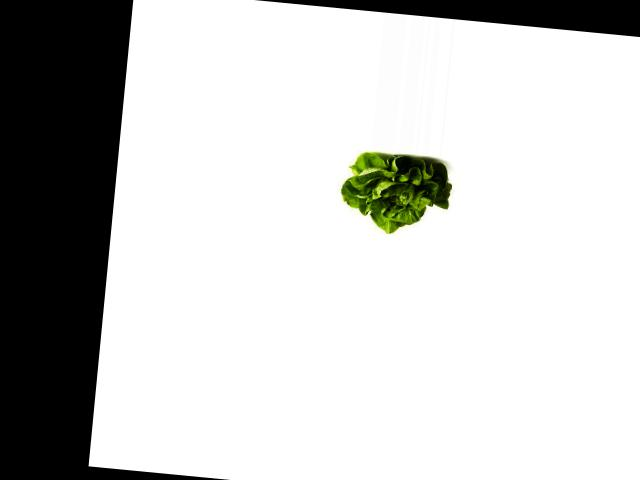lettuce: (334, 148, 456, 238)
